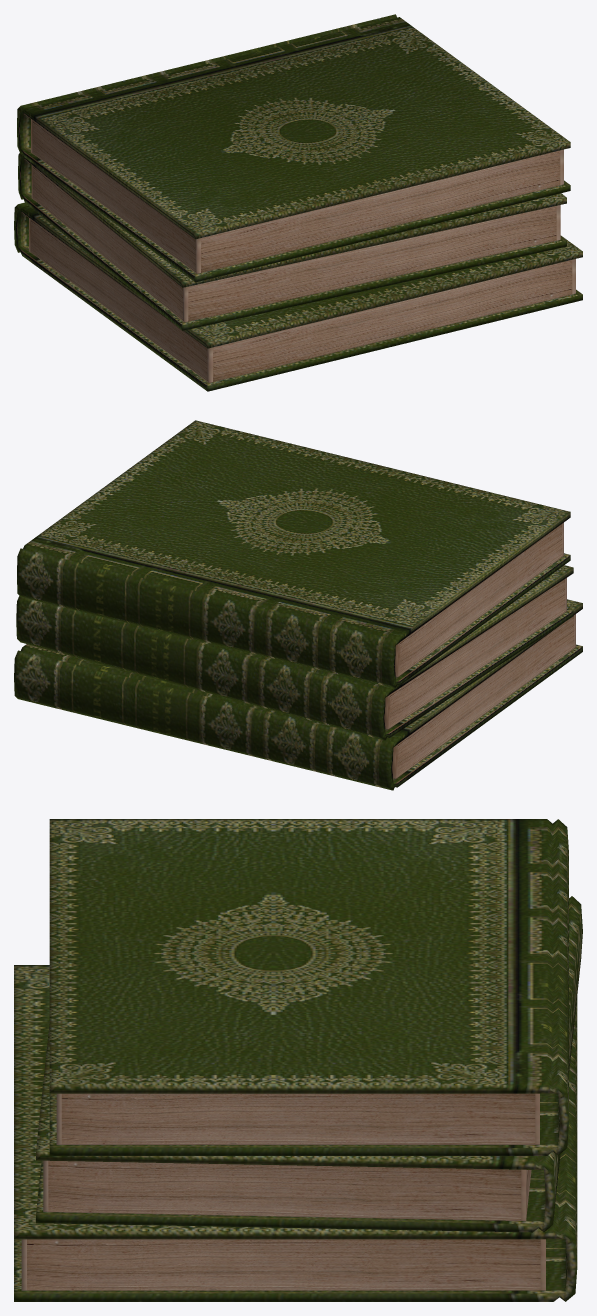
3 renders of one model, top to bottom at view 1: azimuth 30°, elevation 25°; view 2: azimuth 150°, elevation 25°; view 3: azimuth 270°, elevation 25°, orthographic. The views are drawn at different scales.
Visible parts, largest first — view 1: book; view 2: book; view 3: book.
Part boxes in pixels (left/top/right/bottom): book: left=14, top=14, right=582, bottom=391; book: left=14, top=420, right=582, bottom=790; book: left=14, top=819, right=582, bottom=1301.
Bounding box in the file's own units: 39.14 × 14.33 × 34.12.
Materials: 1 (1 with a texture image).
